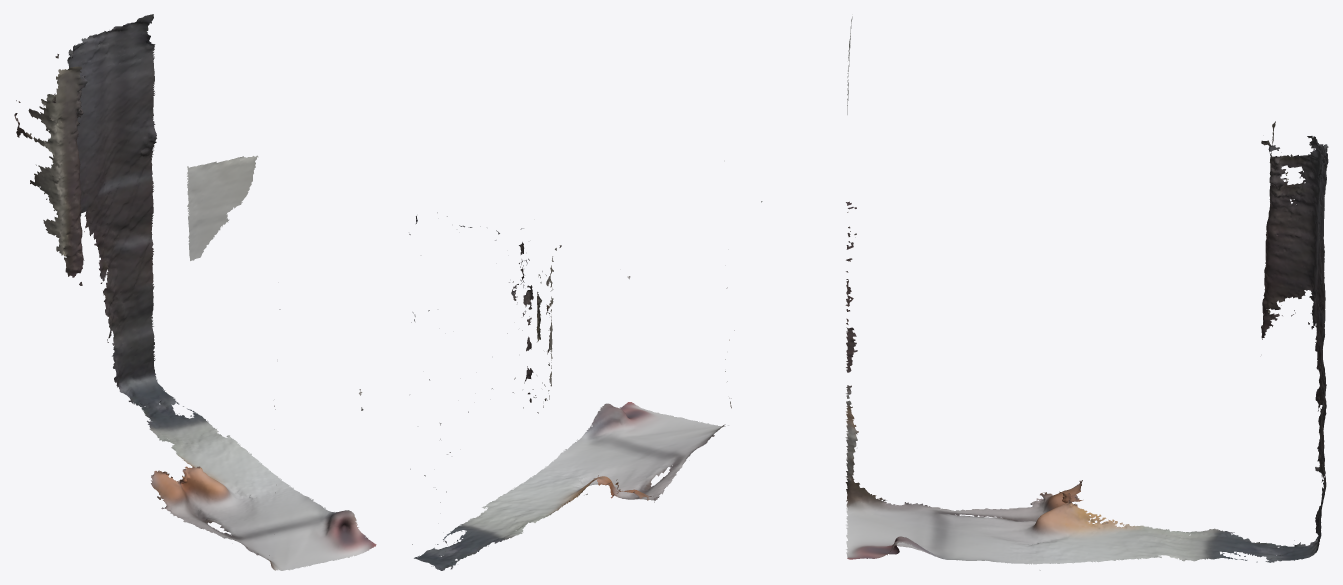
File: apartment-full-109-ecff5980324c.glb
3 views of the same model, side by side, from view 1: azimuth 30°, elevation 25°; view 2: azimuth 150°, elevation 25°; view 3: azimuth 270°, elevation 25° (orthographic). The views are drawn at different scales.
Bounding box in the file's own units: 0.878 × 1.93 × 1.82.
